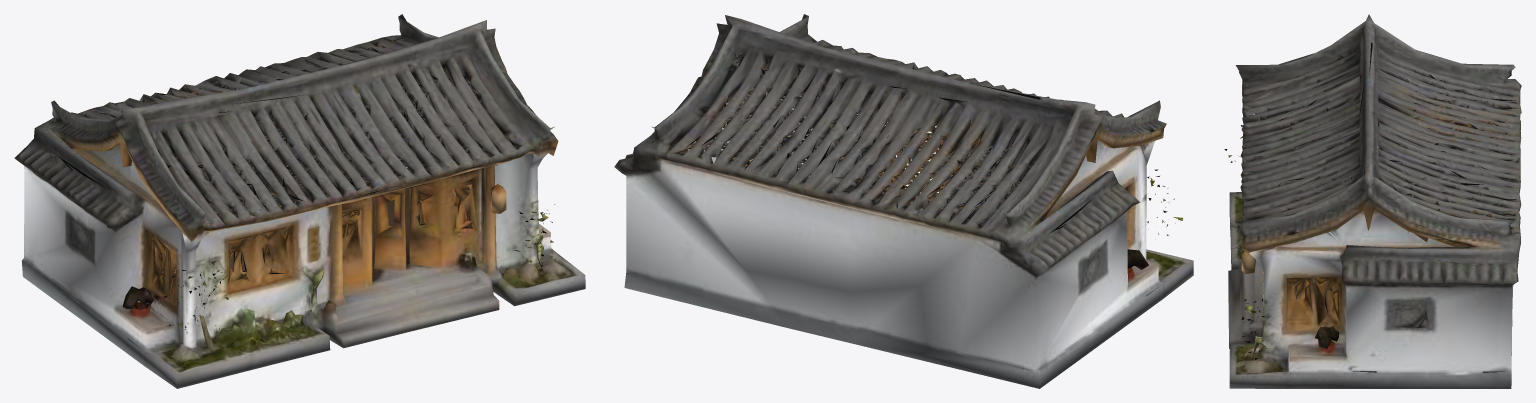
File: lib_courtyard.bk.glb
3 renders of one model, left to right at view 1: azimuth 30°, elevation 25°; view 2: azimuth 150°, elevation 25°; view 3: azimuth 270°, elevation 25°, orthographic. The views are drawn at different scales.
Visible parts, largest first — view 1: lo; view 2: lo; view 3: lo.
Part boxes in pixels (box(x1,y1,x2,y2)): lo: box(14, 14, 585, 388); lo: box(614, 14, 1193, 388); lo: box(1224, 14, 1521, 388).
Size of the model in its own units: 1.88 by 0.9254 by 1.25.
Materials: 1 (1 with a texture image).
